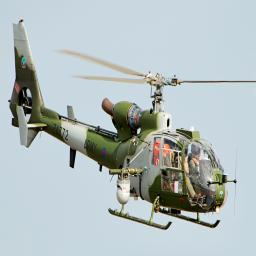helicopter: (10, 20, 256, 233)
